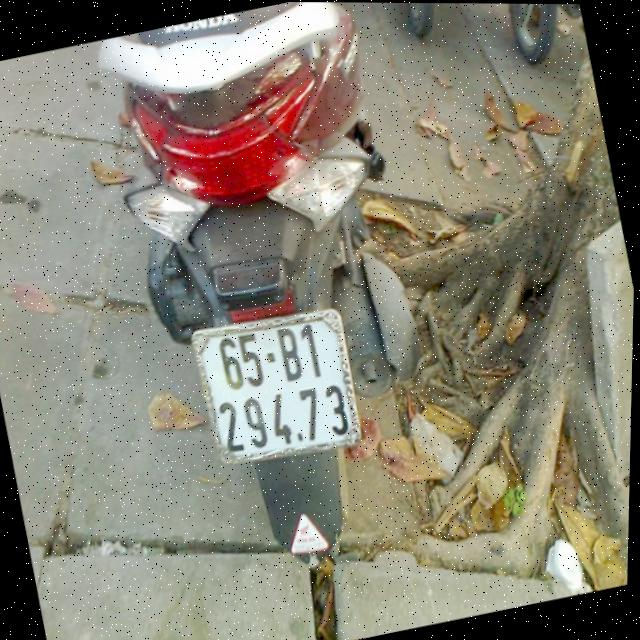motorcycle: (69, 1, 483, 613)
plate: (183, 294, 368, 480)
